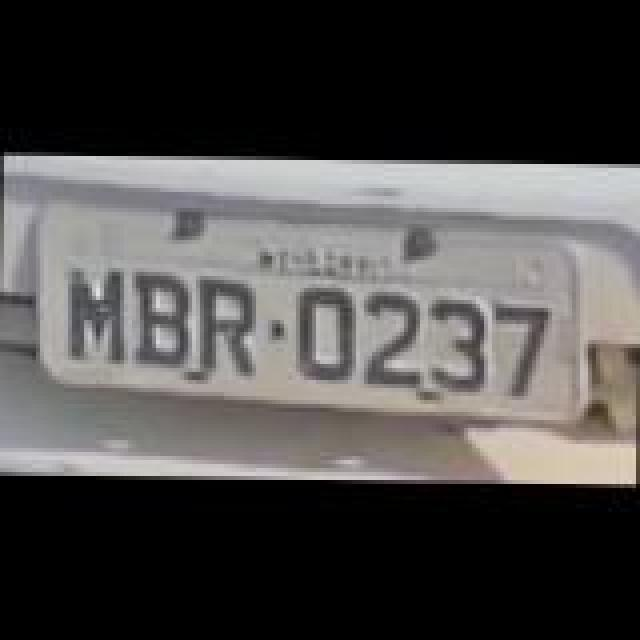2: (366, 294, 426, 390)
3: (430, 300, 490, 392)
7: (498, 306, 558, 398)
B: (132, 274, 196, 370)
D: (296, 290, 360, 382)
M: (70, 268, 130, 364)
R: (196, 278, 260, 374)
